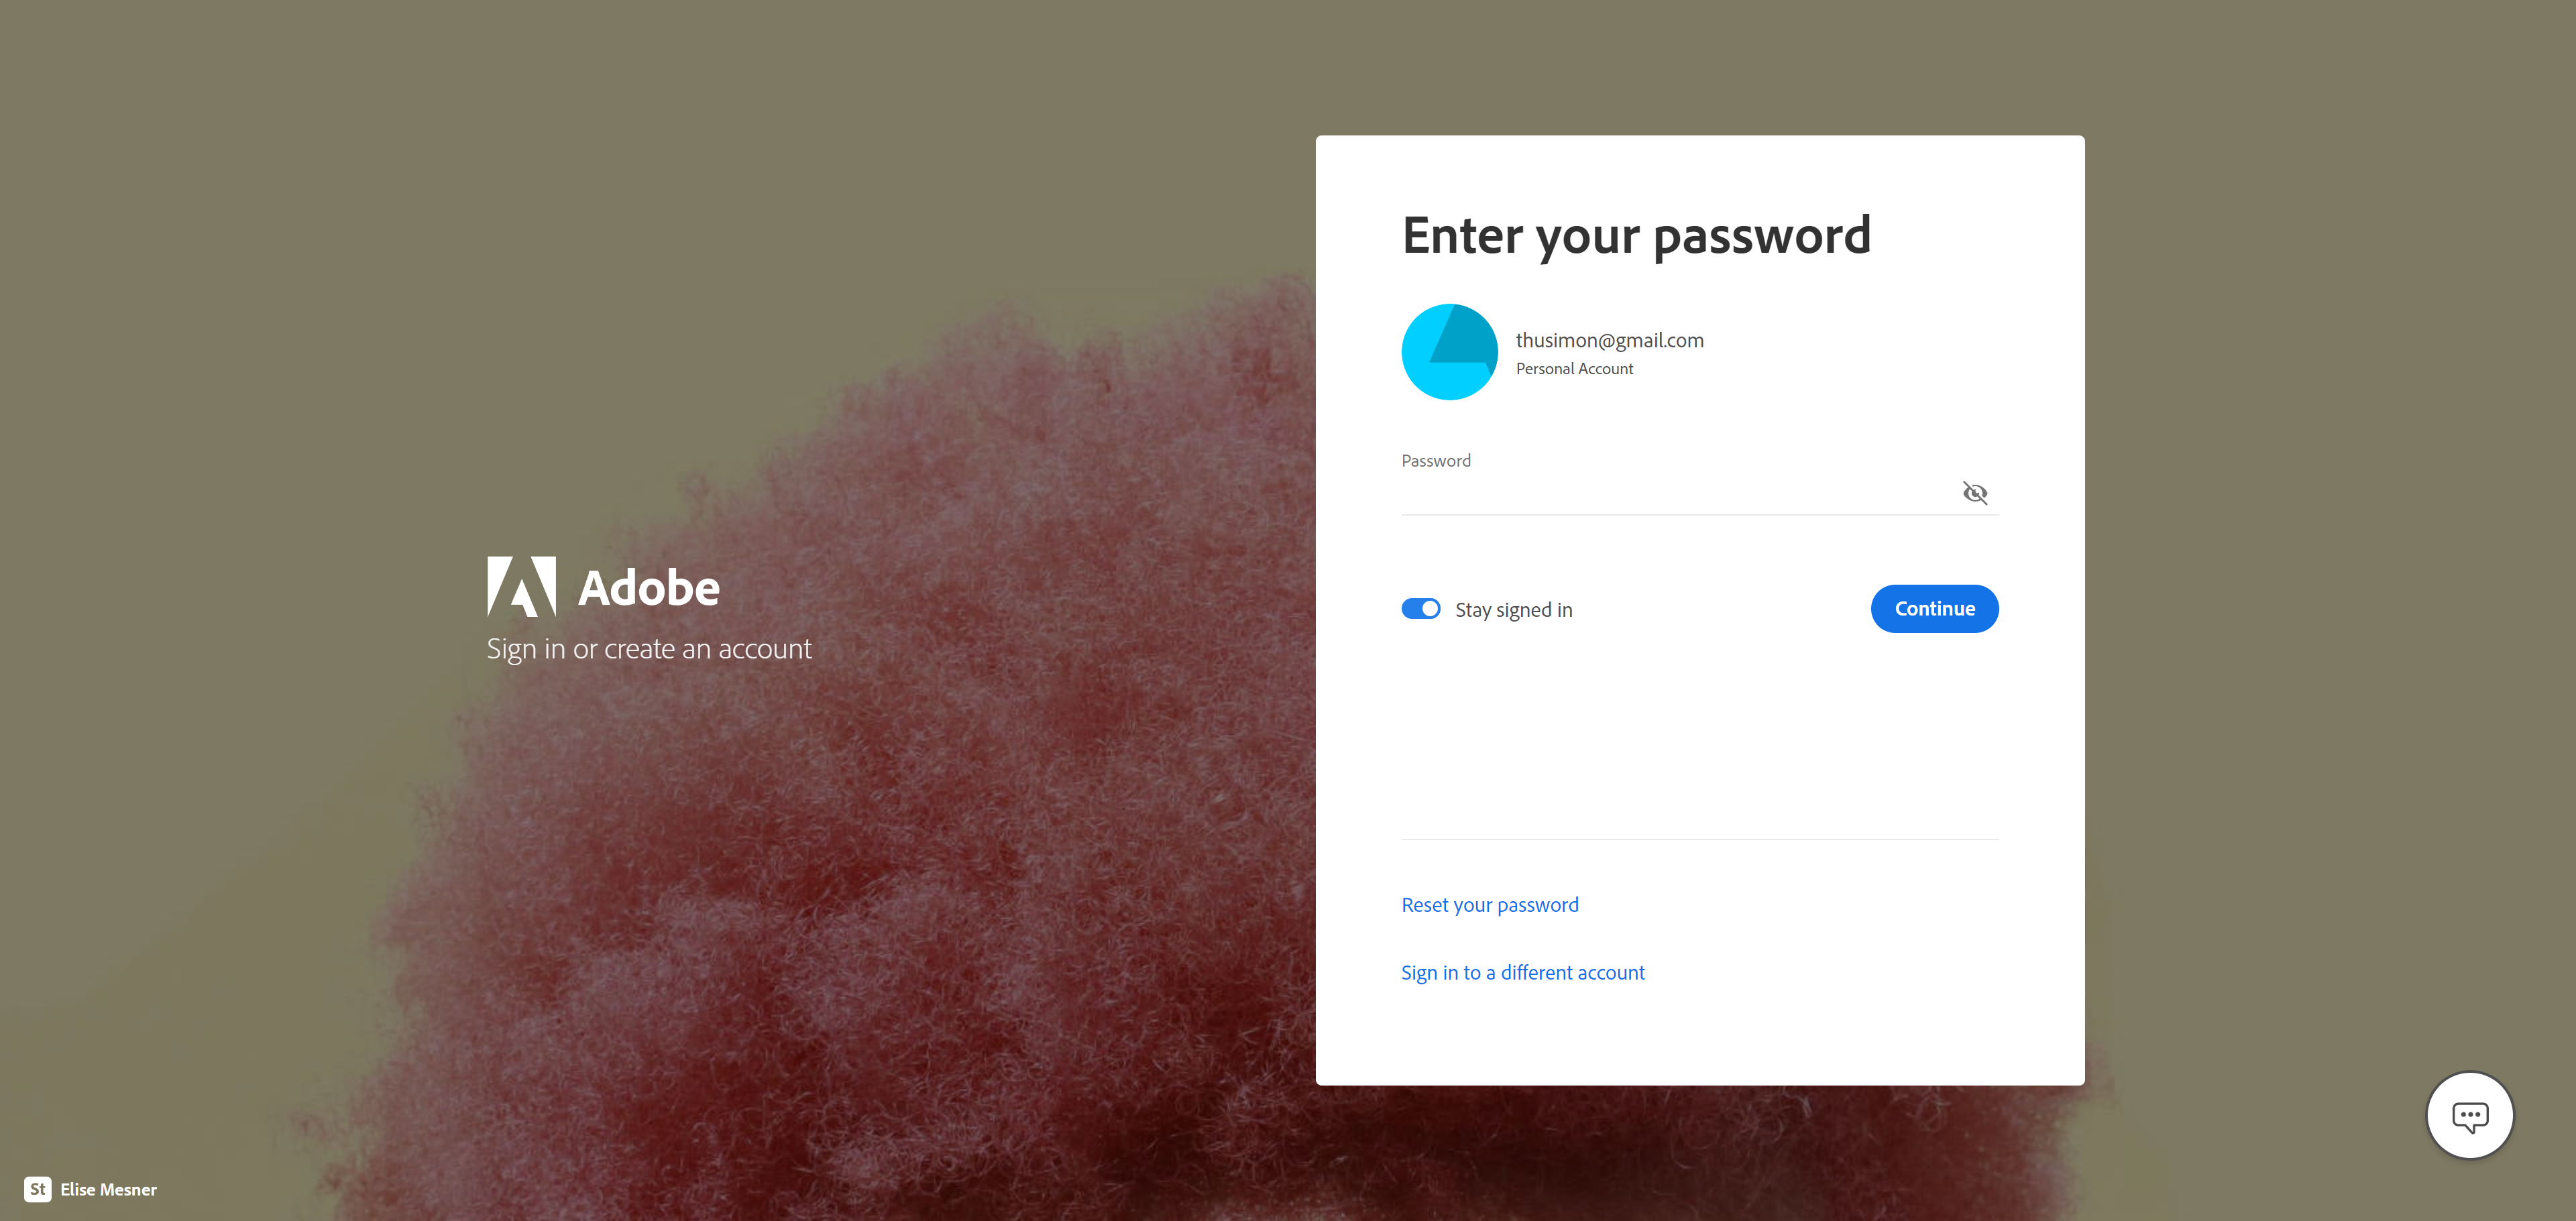login_button: (1870, 585, 1999, 633)
login_form: (1383, 439, 2014, 647)
